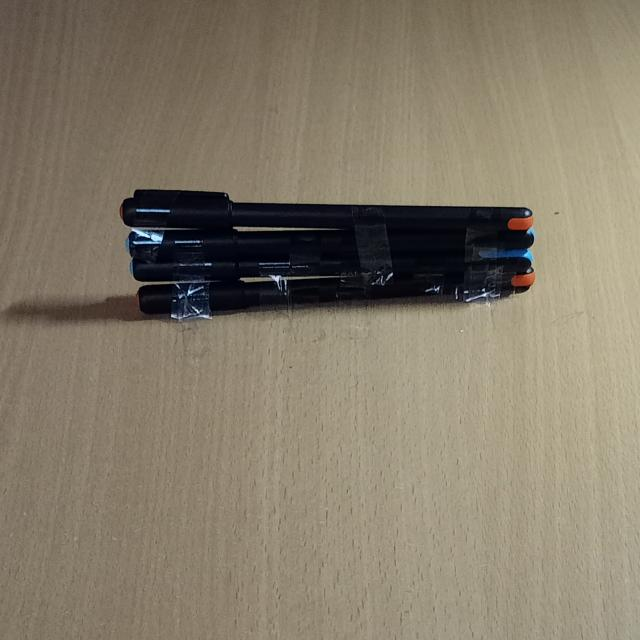pen: (107, 181, 558, 234)
